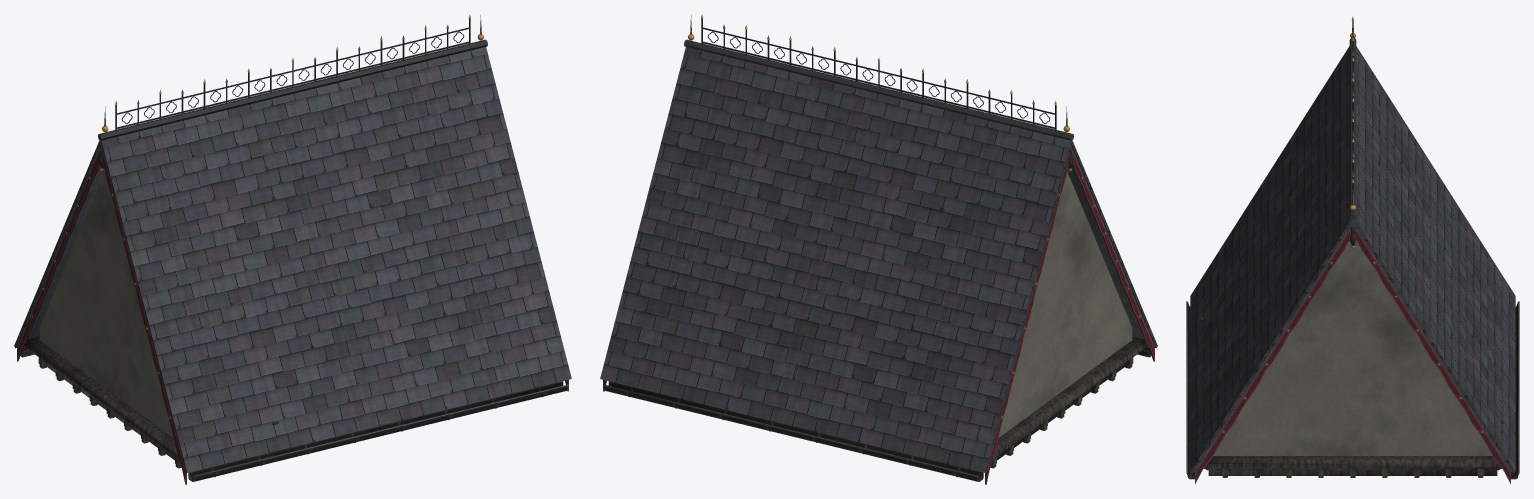
File: GableRoofSteep.fbx
The picture shows the model from 3 angles, left to right: view 1: azimuth 30°, elevation 25°; view 2: azimuth 150°, elevation 25°; view 3: azimuth 270°, elevation 25°; orthographic projection. The views are drawn at different scales.
Visible parts, largest first — view 1: GableRoofSteep_Slate, GableRoofSteep_Main, GableRoofSteep_Stone, GableRoofSteep_Lead; view 2: GableRoofSteep_Slate, GableRoofSteep_Main, GableRoofSteep_Stone, GableRoofSteep_Lead; view 3: GableRoofSteep_Slate, GableRoofSteep_Stone, GableRoofSteep_Main, GableRoofSteep_Lead.
Part boxes in pixels (box(x1,y1,x2,y2)): GableRoofSteep_Slate: box(14, 47, 571, 472); GableRoofSteep_Main: box(17, 14, 568, 484); GableRoofSteep_Stone: box(39, 172, 173, 437); GableRoofSteep_Lead: box(17, 145, 104, 347); GableRoofSteep_Slate: box(600, 47, 1157, 472); GableRoofSteep_Main: box(603, 14, 1154, 484); GableRoofSteep_Stone: box(998, 172, 1132, 437); GableRoofSteep_Lead: box(1067, 145, 1154, 347); GableRoofSteep_Slate: box(1190, 46, 1515, 472); GableRoofSteep_Stone: box(1213, 240, 1492, 455); GableRoofSteep_Main: box(1186, 17, 1519, 484); GableRoofSteep_Lead: box(1194, 222, 1511, 472).
Size of the model in its own units: 1756 by 1381 by 1392.
